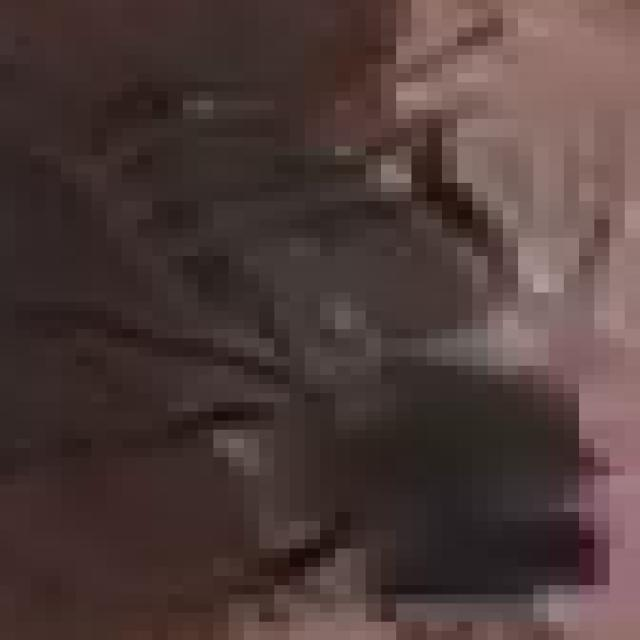honeybee: (52, 79, 624, 594)
